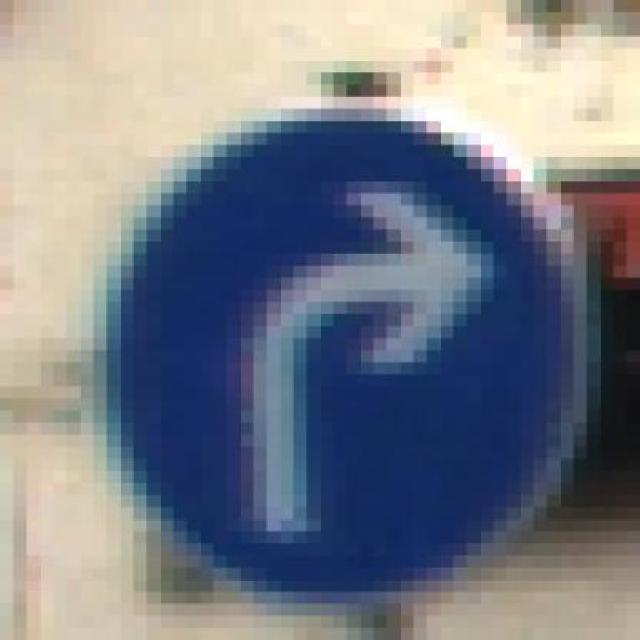Turn right ahead: (93, 109, 587, 592)
